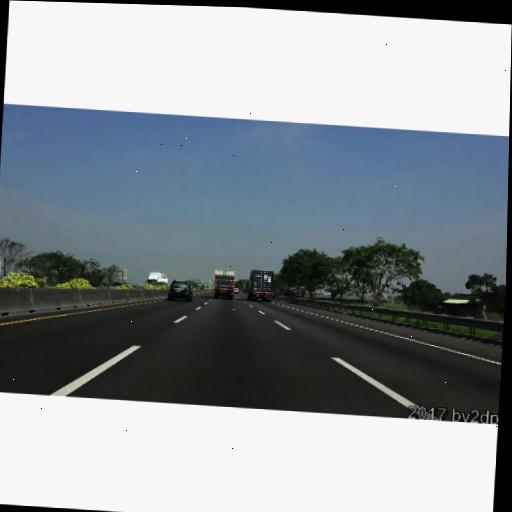Car: (246, 269, 273, 303), (212, 268, 234, 299), (167, 279, 192, 301)
